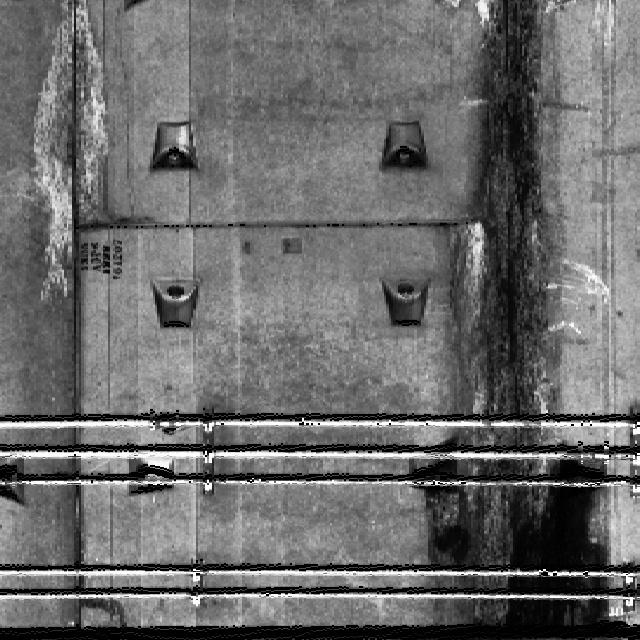leakage: (418, 0, 620, 636)
